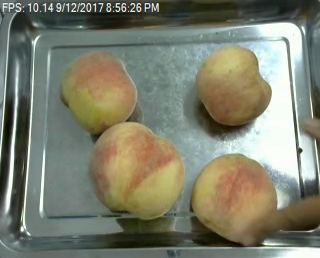Peach: (89, 120, 182, 219), (191, 151, 277, 243), (60, 49, 137, 133), (196, 43, 272, 126)
